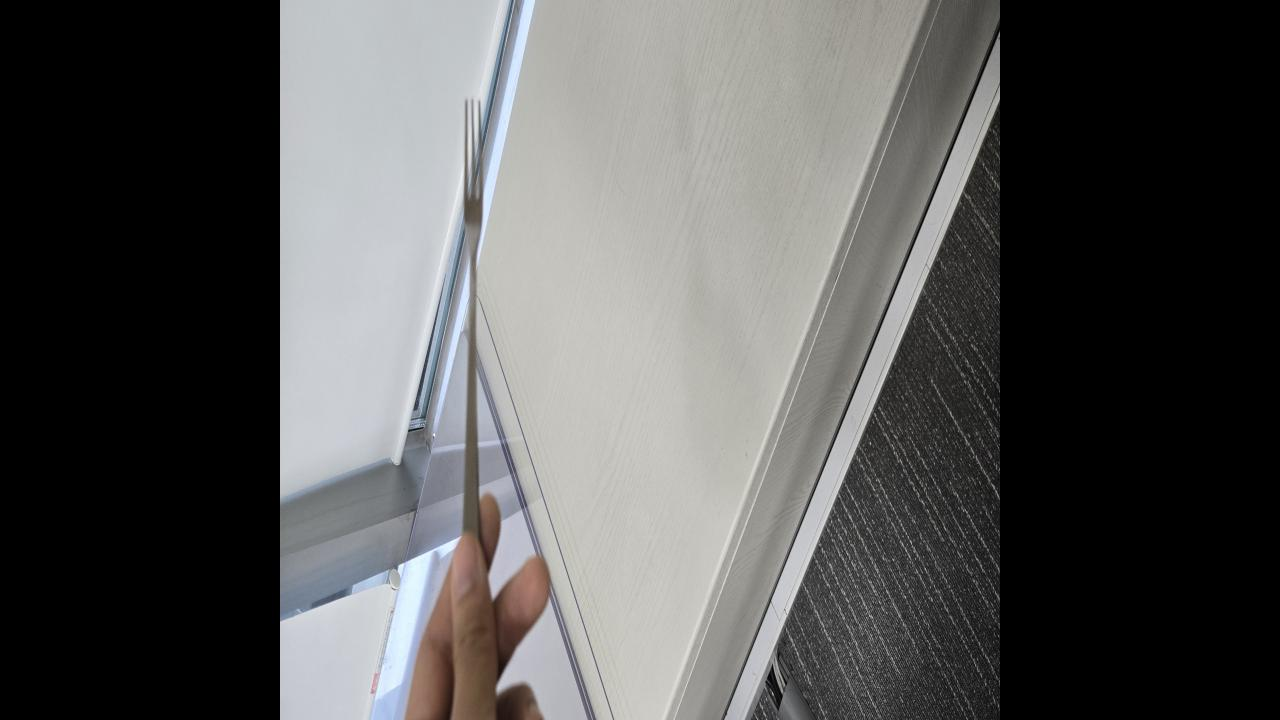fork: (462, 97, 484, 526)
